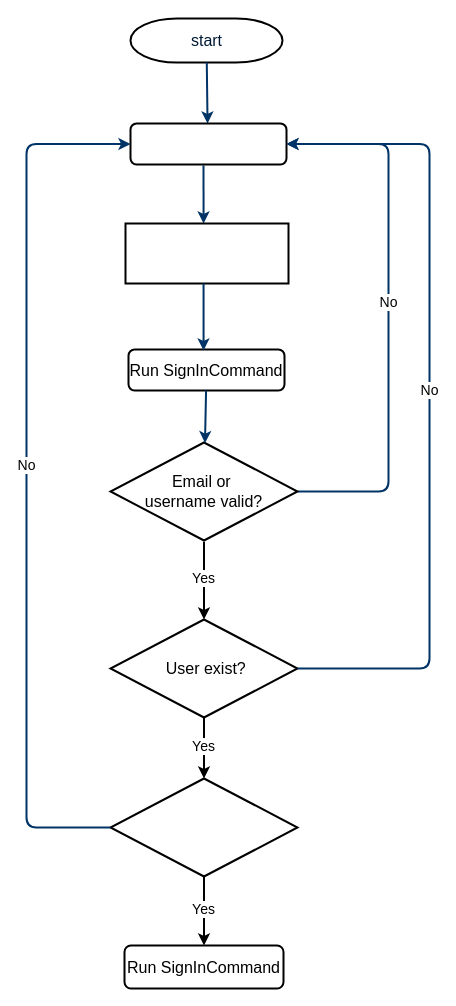
Some shapes in this 456 by 1006 pixel diagram are drawn without their labels. Each missing label, with the centre of its shape:
"Display login page" belongs at (x=208, y=143).
"Password correct?" belongs at (x=203, y=827).
"Provide username/email and password" belongs at (x=206, y=253).
